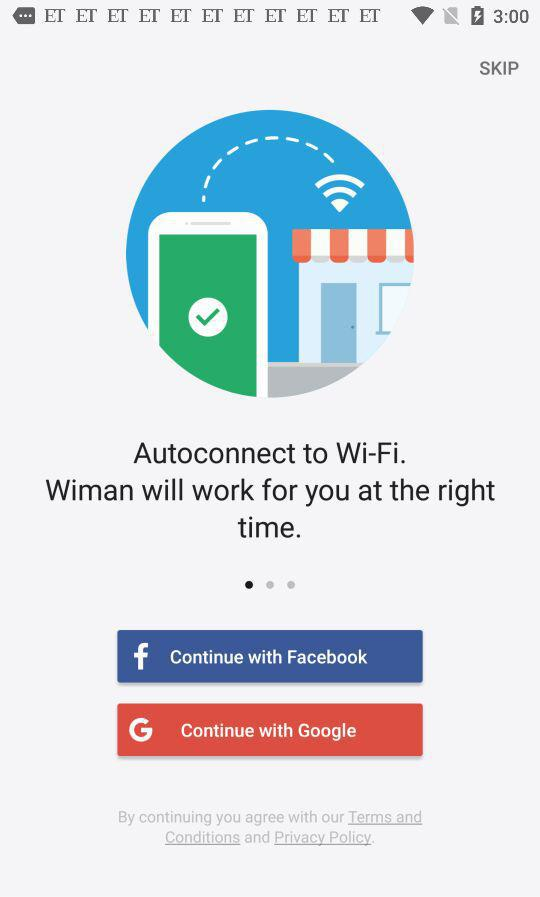Image: (125, 110, 415, 399)
PageIndicator: (245, 580, 298, 591)
Text: (46, 441, 497, 540), (119, 809, 423, 848), (479, 61, 520, 77)
TextButton: (117, 703, 424, 757), (117, 630, 424, 683)
UpperTaskBar: (1, 1, 540, 27)
